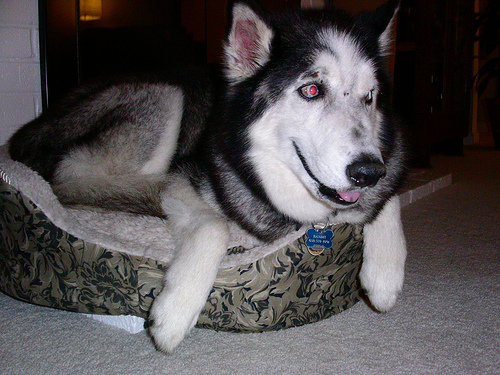dog: (6, 1, 407, 354)
